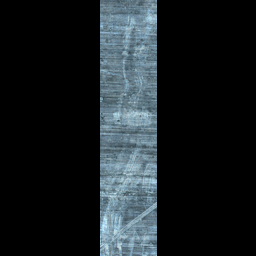d: (102, 198, 156, 254), (122, 12, 148, 126), (116, 139, 156, 197), (109, 102, 150, 129)
